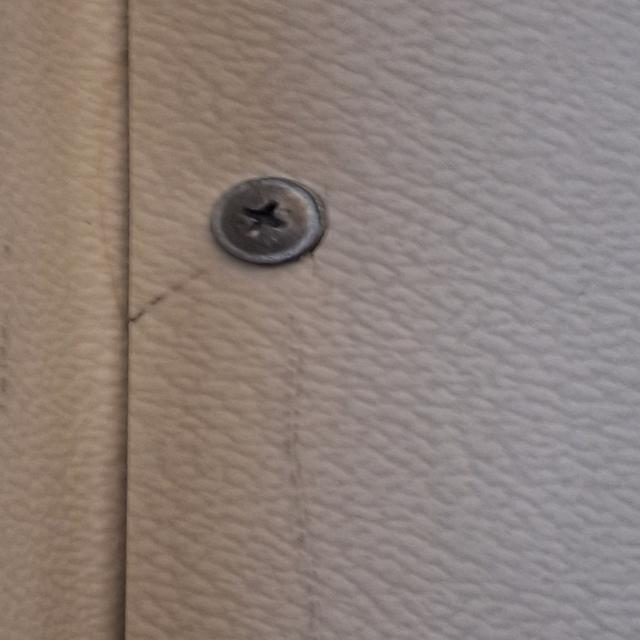Phillips: (206, 176, 326, 264)
